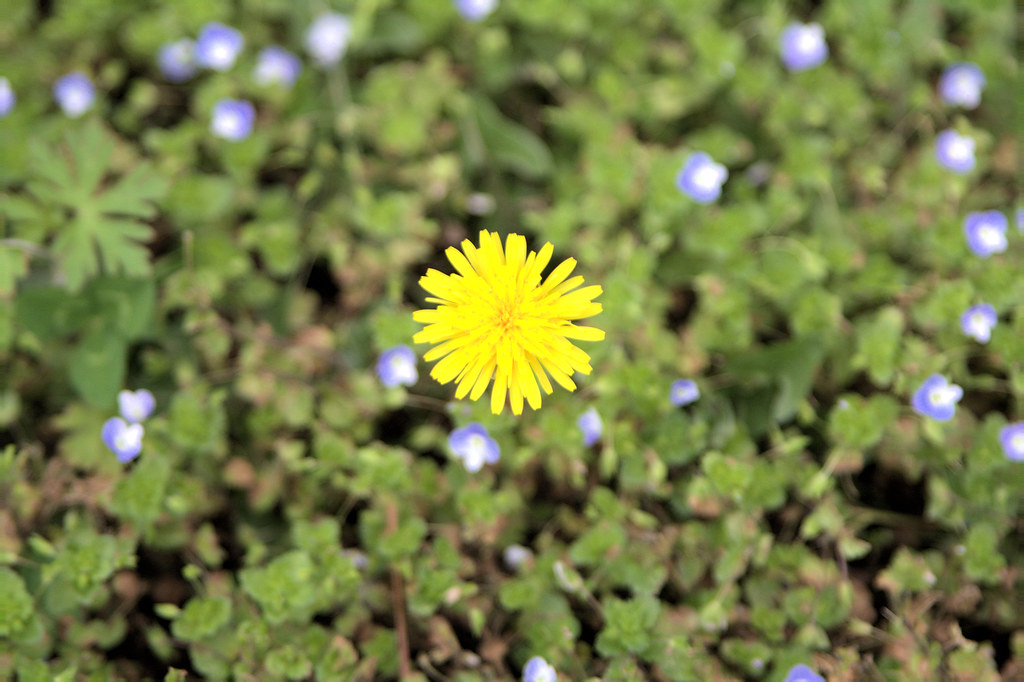dandelion: (416, 237, 617, 425)
